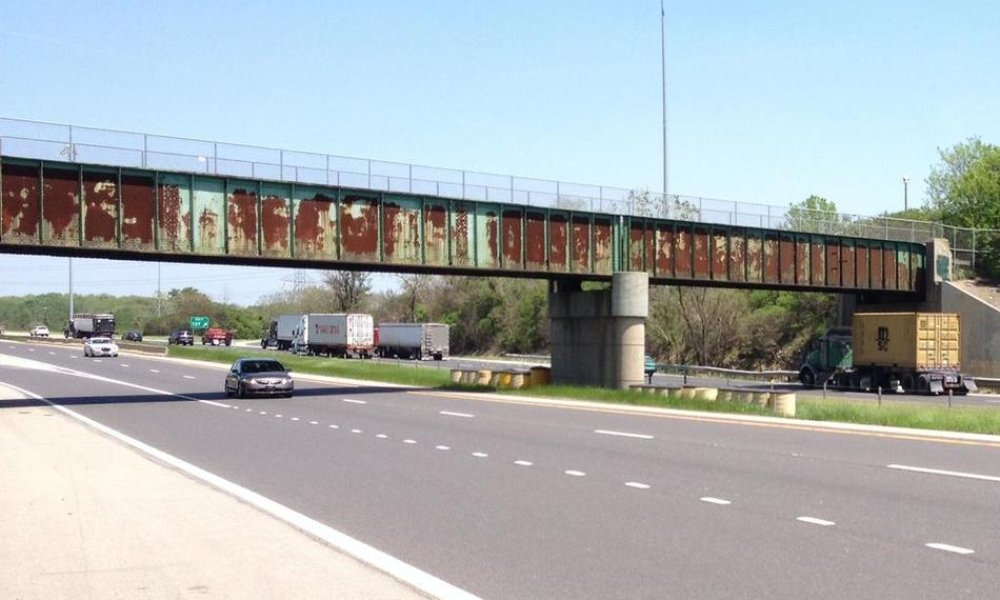bridge: (1, 121, 939, 304)
